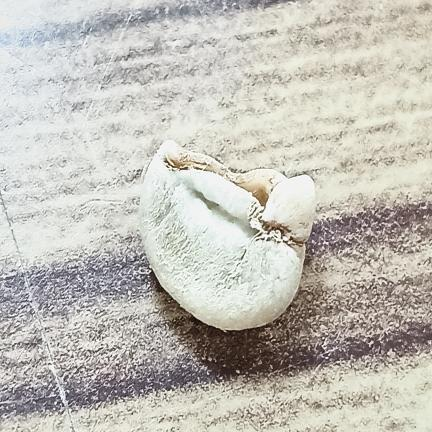cut: (140, 140, 315, 330)
